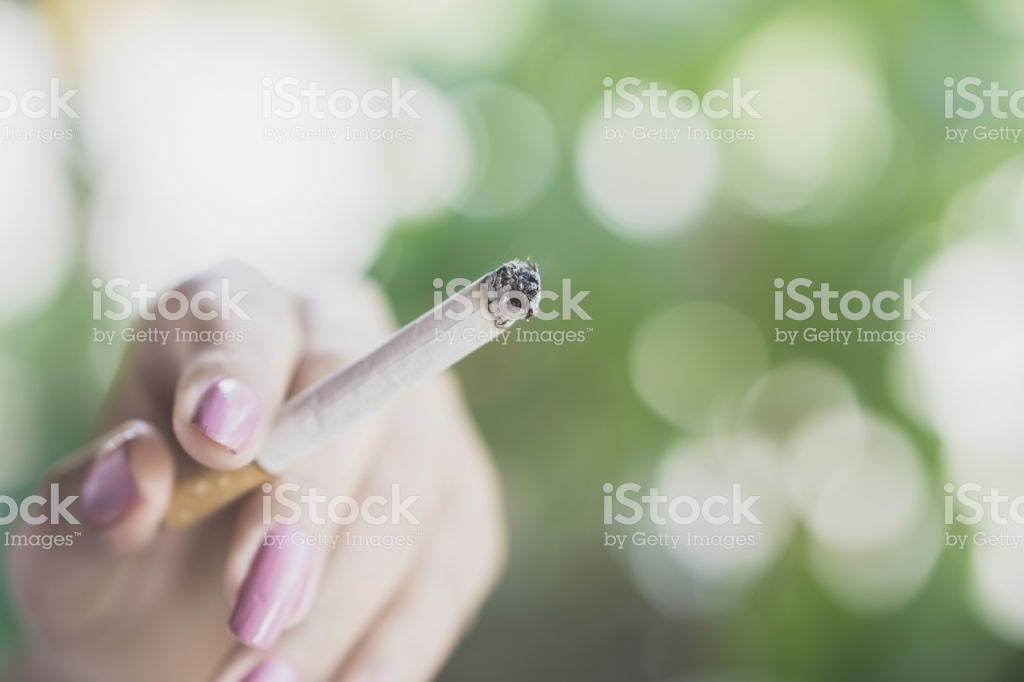sigaretta: (157, 273, 534, 509)
